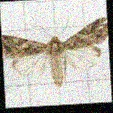Spodoptera litura: (2, 12, 109, 88)
